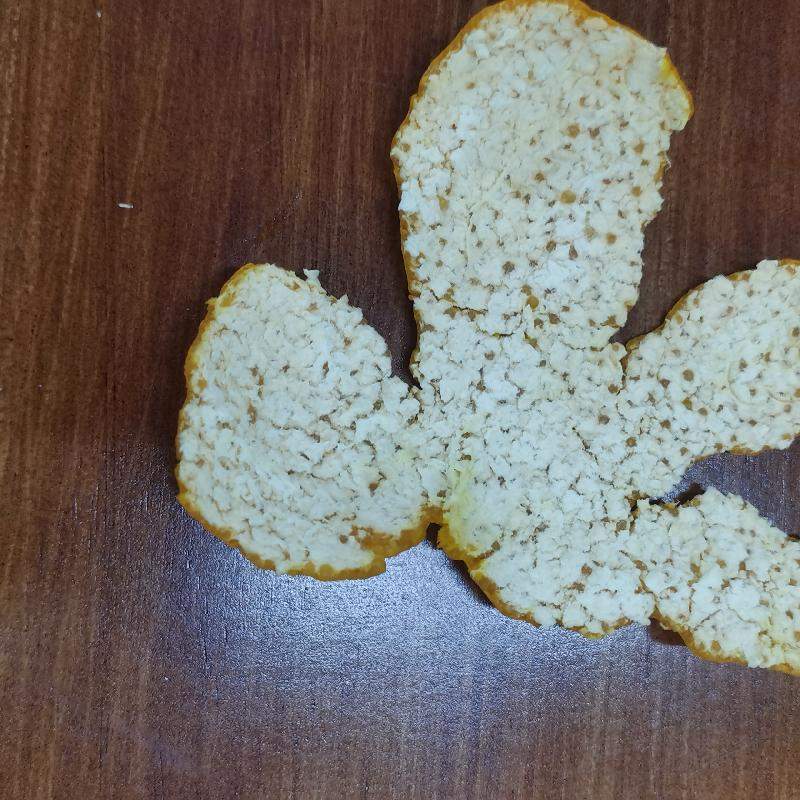orange: (167, 1, 800, 673)
